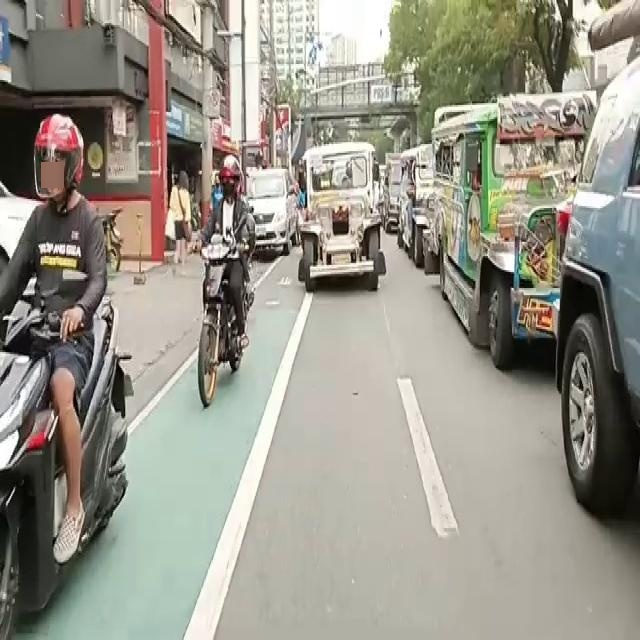jeepney: (441, 110, 577, 375), (295, 122, 382, 292), (398, 145, 441, 273)
motorcycle: (8, 154, 122, 549), (175, 174, 259, 398)
